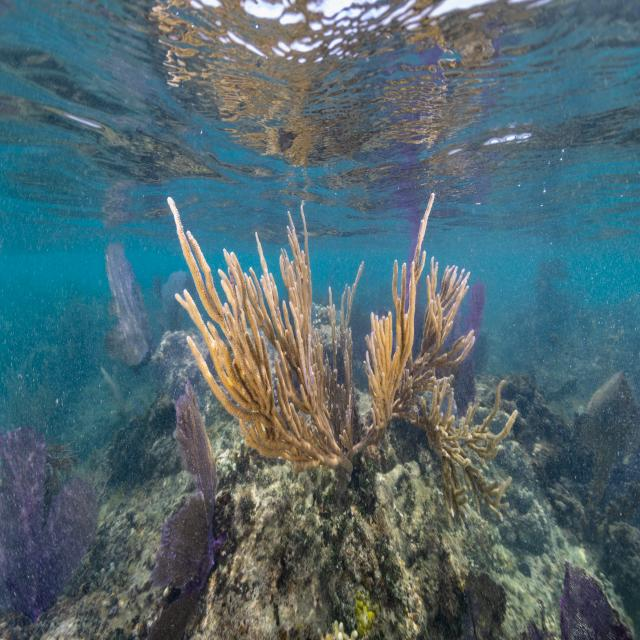Coral: (167, 189, 517, 522), (150, 379, 222, 640)
